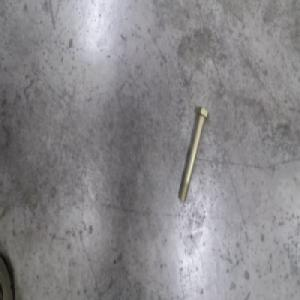Bolt: (176, 106, 209, 204)
